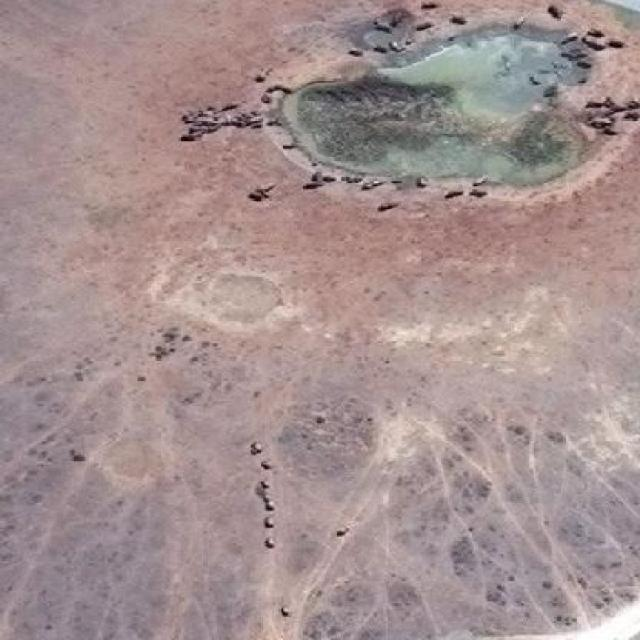elephant: (453, 188, 492, 202), (372, 39, 405, 55), (168, 129, 207, 142), (588, 36, 610, 56), (436, 187, 467, 201), (415, 17, 439, 35), (576, 58, 604, 73), (324, 520, 351, 535), (262, 92, 287, 108), (347, 180, 391, 189), (258, 182, 288, 195), (581, 96, 619, 105), (220, 115, 246, 128), (452, 12, 476, 26), (263, 514, 285, 528), (378, 200, 402, 212), (560, 28, 578, 43), (345, 47, 364, 61), (545, 4, 566, 16), (413, 176, 432, 189), (248, 441, 264, 456), (247, 190, 268, 201), (396, 10, 412, 24), (258, 498, 276, 510), (264, 536, 279, 550), (471, 173, 486, 187), (608, 39, 627, 50), (510, 15, 527, 27), (280, 603, 294, 617), (342, 175, 366, 183), (271, 85, 287, 97), (257, 461, 274, 472), (306, 180, 322, 191), (309, 169, 331, 177), (245, 110, 257, 124), (590, 119, 613, 126), (598, 130, 618, 138), (594, 109, 614, 117), (622, 111, 635, 122), (256, 479, 273, 487), (191, 115, 206, 124), (328, 173, 340, 184), (378, 20, 389, 32), (221, 102, 237, 110), (262, 493, 276, 502), (626, 96, 640, 105), (417, 3, 438, 8), (272, 114, 279, 123)
